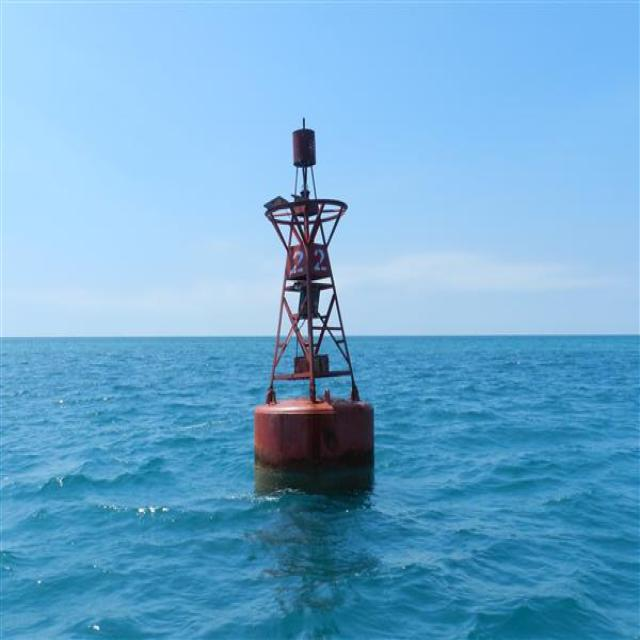buoy: (245, 119, 381, 468)
